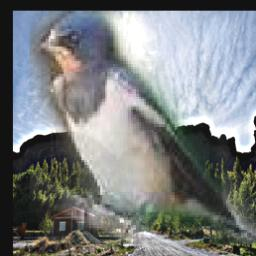Swallow: (30, 12, 256, 245)
